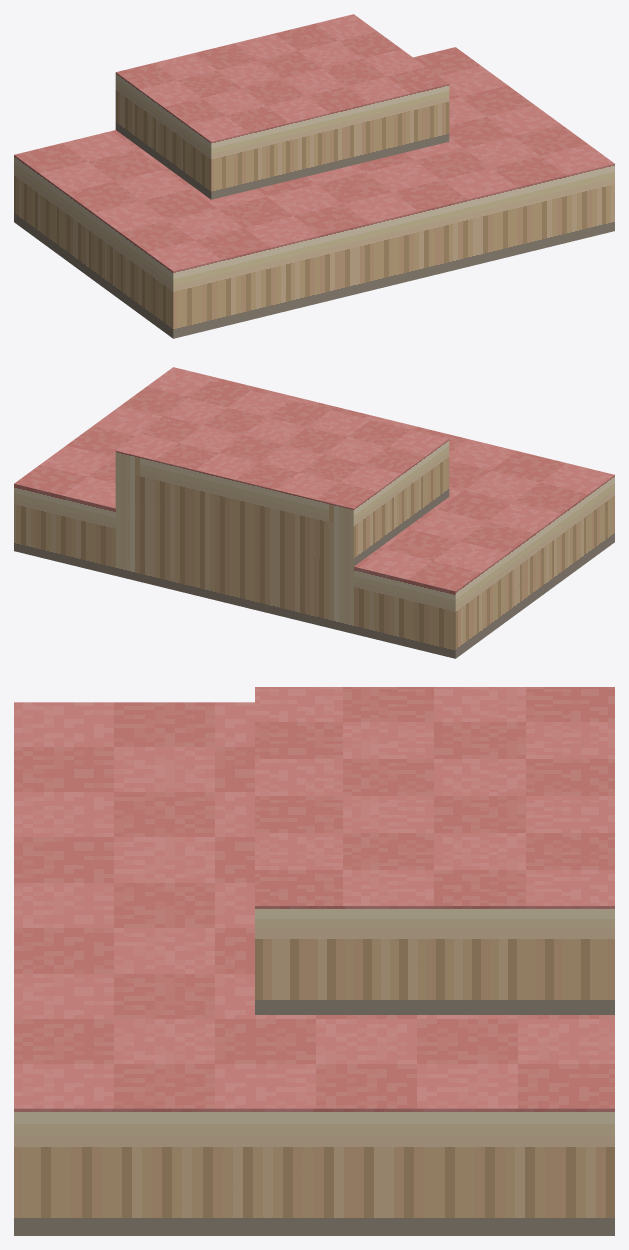
Rendered from 048e_Shoe_Display_Stand.glb.
The picture shows the model from 3 angles, top to bottom: view 1: azimuth 30°, elevation 25°; view 2: azimuth 150°, elevation 25°; view 3: azimuth 270°, elevation 25°; orthographic projection. The views are drawn at different scales.
Visible parts, largest first — view 1: part_0; view 2: part_0; view 3: part_0.
Part boxes in pixels (x1=…): part_0: x1=14, y1=14, x2=614, y2=338; part_0: x1=14, y1=367, x2=614, y2=658; part_0: x1=14, y1=687, x2=614, y2=1235.
Size of the model in its own units: 2.4 by 0.65 by 1.5.
1 material, 1 textured.
